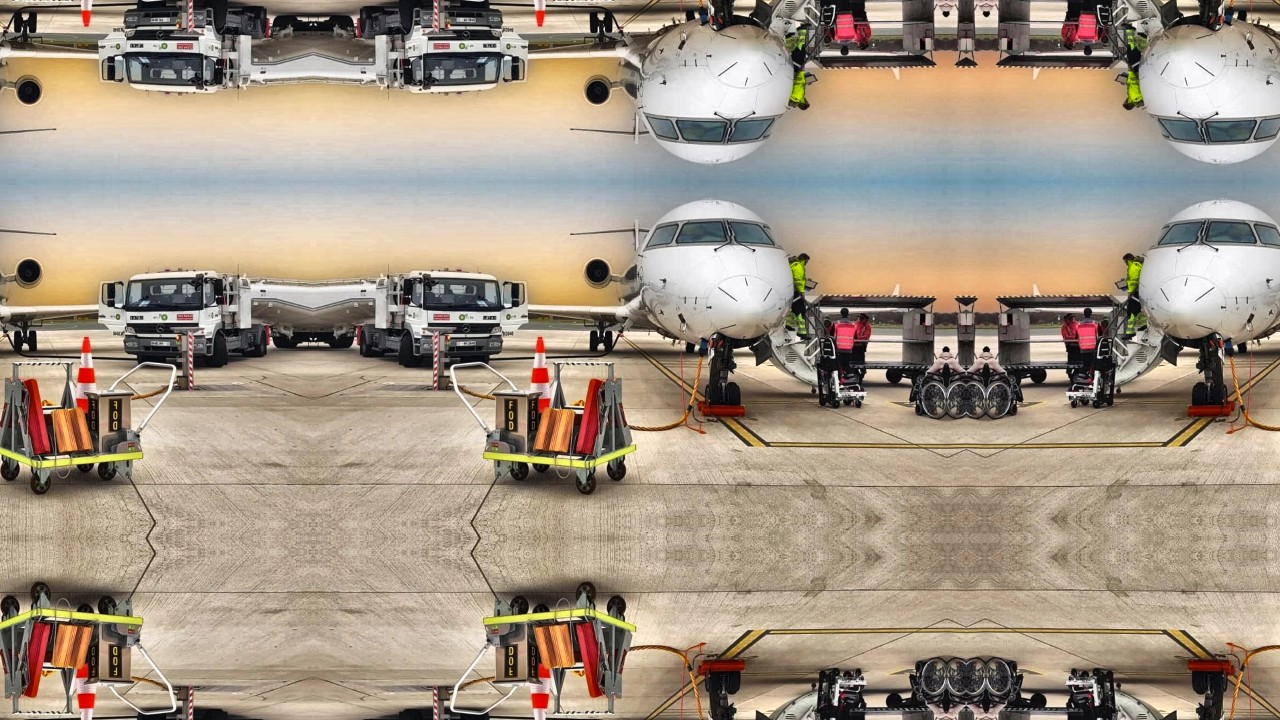chock: (18, 378, 51, 456), (575, 378, 608, 456), (18, 621, 51, 699), (575, 621, 608, 699), (68, 405, 94, 452), (532, 405, 558, 452), (68, 625, 94, 672), (532, 625, 558, 672), (51, 407, 77, 453), (549, 407, 575, 453), (51, 624, 77, 670), (549, 624, 575, 670)
wheel: (199, 333, 226, 367), (400, 333, 427, 367), (199, 0, 226, 30), (400, 0, 427, 30), (248, 7, 267, 36), (359, 7, 378, 36), (248, 327, 267, 356), (359, 327, 378, 356), (271, 15, 301, 33), (325, 15, 355, 33), (271, 330, 301, 348), (325, 330, 355, 348), (723, 381, 742, 407), (1191, 381, 1210, 407), (723, 670, 742, 696), (1191, 670, 1210, 696), (705, 380, 721, 406), (1212, 380, 1228, 406), (705, 671, 721, 697), (1212, 671, 1228, 697), (136, 353, 165, 367), (461, 353, 490, 367), (136, 0, 165, 10), (461, 0, 490, 10), (136, 710, 165, 720), (461, 710, 490, 720), (885, 369, 903, 384), (1030, 369, 1048, 384), (199, 710, 226, 720), (400, 710, 427, 720), (885, 693, 903, 708), (1030, 693, 1048, 708)
